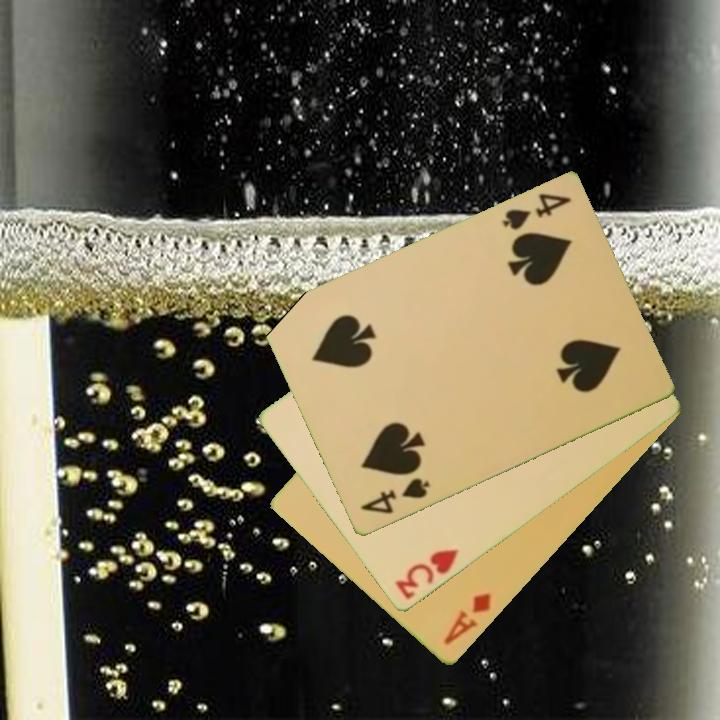3h: (391, 546, 461, 603)
4s: (499, 190, 574, 234), (357, 475, 433, 518)
Ad: (439, 590, 494, 649)
